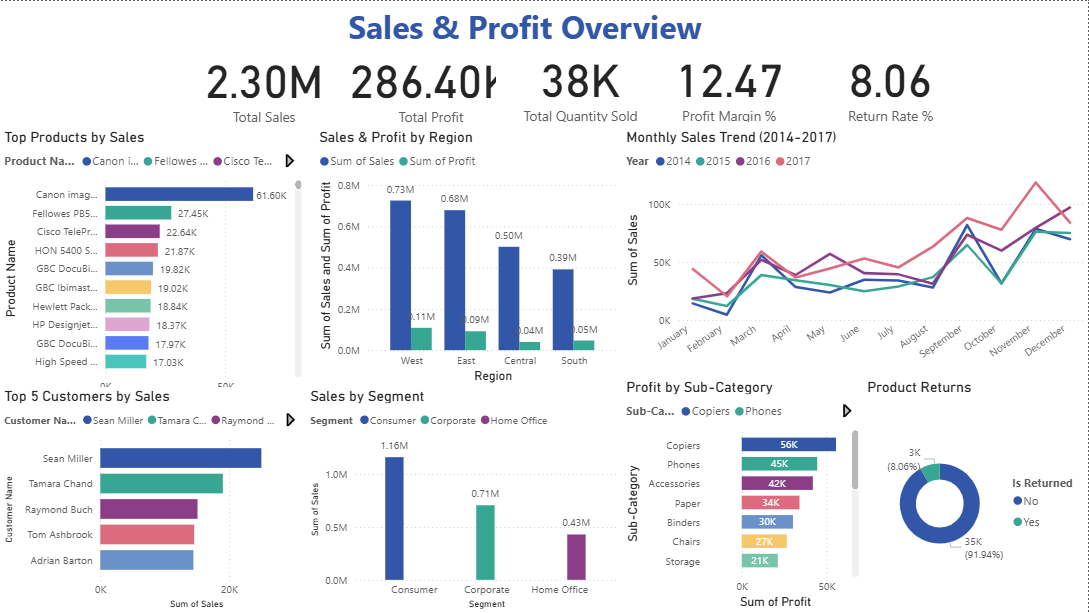

What the dashboard file says about the page in this screenshot:
{"tool":"powerbi","page":{"name":"Page 1","canvas":[1280,720],"ordinal":0},"visuals":[{"type":"card","fields":{"Values":["Orders.Sales"]},"box":[216.5,47.1,188.2,102.4],"z":0},{"type":"card","fields":{"Values":["Orders.Profit"]},"box":[404.7,47.1,204.7,102.4],"z":1000},{"type":"card","fields":{"Values":["Orders.Quantity"]},"box":[583.5,47.1,198.8,100],"z":2000},{"type":"barChart","title":"Top Products by Sales","fields":{"Category":["Orders.Product Name"],"Y":["Orders.Sales"],"Series":["Orders.Product Name"]},"box":[0,149.4,360,335.3],"z":3000},{"type":"card","fields":{"Values":["Orders.Profit Margin"]},"box":[760,47.1,195.3,100],"z":4000},{"type":"lineChart","title":"Monthly Sales Trend (2014-2017)","fields":{"Y":["Orders.Sales"],"Category":["Orders.Order Date.Variation.Date Hierarchy.Year","Orders.Order Date.Variation.Date Hierarchy.Month"],"Series":["Orders.Order Date.Variation.Date Hierarchy.Year"]},"box":[731.8,149.4,548.2,294.1],"z":5000},{"type":"barChart","title":"Profit by Sub-Category","fields":{"Category":["Orders.Sub-Category"],"Y":["Orders.Profit"],"Series":["Orders.Sub-Category"]},"box":[731.8,443.5,283.5,276.5],"z":6000},{"type":"clusteredColumnChart","title":"Sales & Profit by Region","fields":{"Category":["Orders.Region"],"Y":["Orders.Sales","Orders.Profit"]},"box":[370.6,149.4,361.2,304.7],"z":6001},{"type":"donutChart","title":"Product Returns","fields":{"Category":["Orders.Is Returned"],"Y":["Orders.Quantity"]},"box":[1015.3,443.5,264.7,276.5],"z":6002},{"type":"card","fields":{"Values":["Orders.Return Rate %"]},"box":[947.1,47.1,201.2,100],"z":6003},{"type":"clusteredColumnChart","title":"Sales by Segment","fields":{"Category":["Orders.Segment"],"Y":["Orders.Sales"],"Series":["Orders.Segment"]},"box":[360,454.1,371.8,265.9],"z":6004},{"type":"barChart","title":"Top 5 Customers by Sales","fields":{"Category":["Orders.Customer Name"],"Y":["Orders.Sales"],"Series":["Orders.Customer Name"]},"box":[0,454.1,360,265.9],"z":6005},{"type":"textbox","box":[404.7,0,443.5,58.8],"z":6006}]}

Visuals, with their boxes in screenshot pixels (x1, y1, x2, y2), scaled from the page's 1280x720 canvas onto the 1089x613 screenshot:
card - Orders.Sales: bbox=(184, 40, 344, 127)
card - Orders.Profit: bbox=(344, 40, 518, 127)
card - Orders.Quantity: bbox=(496, 40, 666, 125)
"Top Products by Sales" barChart: bbox=(0, 127, 306, 413)
card - Orders.Profit Margin: bbox=(647, 40, 813, 125)
"Monthly Sales Trend (2014-2017)" lineChart: bbox=(623, 127, 1088, 378)
"Profit by Sub-Category" barChart: bbox=(623, 378, 864, 612)
"Sales & Profit by Region" clusteredColumnChart: bbox=(315, 127, 623, 387)
"Product Returns" donutChart: bbox=(864, 378, 1088, 612)
card - Orders.Return Rate %: bbox=(806, 40, 977, 125)
"Sales by Segment" clusteredColumnChart: bbox=(306, 387, 623, 612)
"Top 5 Customers by Sales" barChart: bbox=(0, 387, 306, 612)
textbox: bbox=(344, 0, 722, 50)
